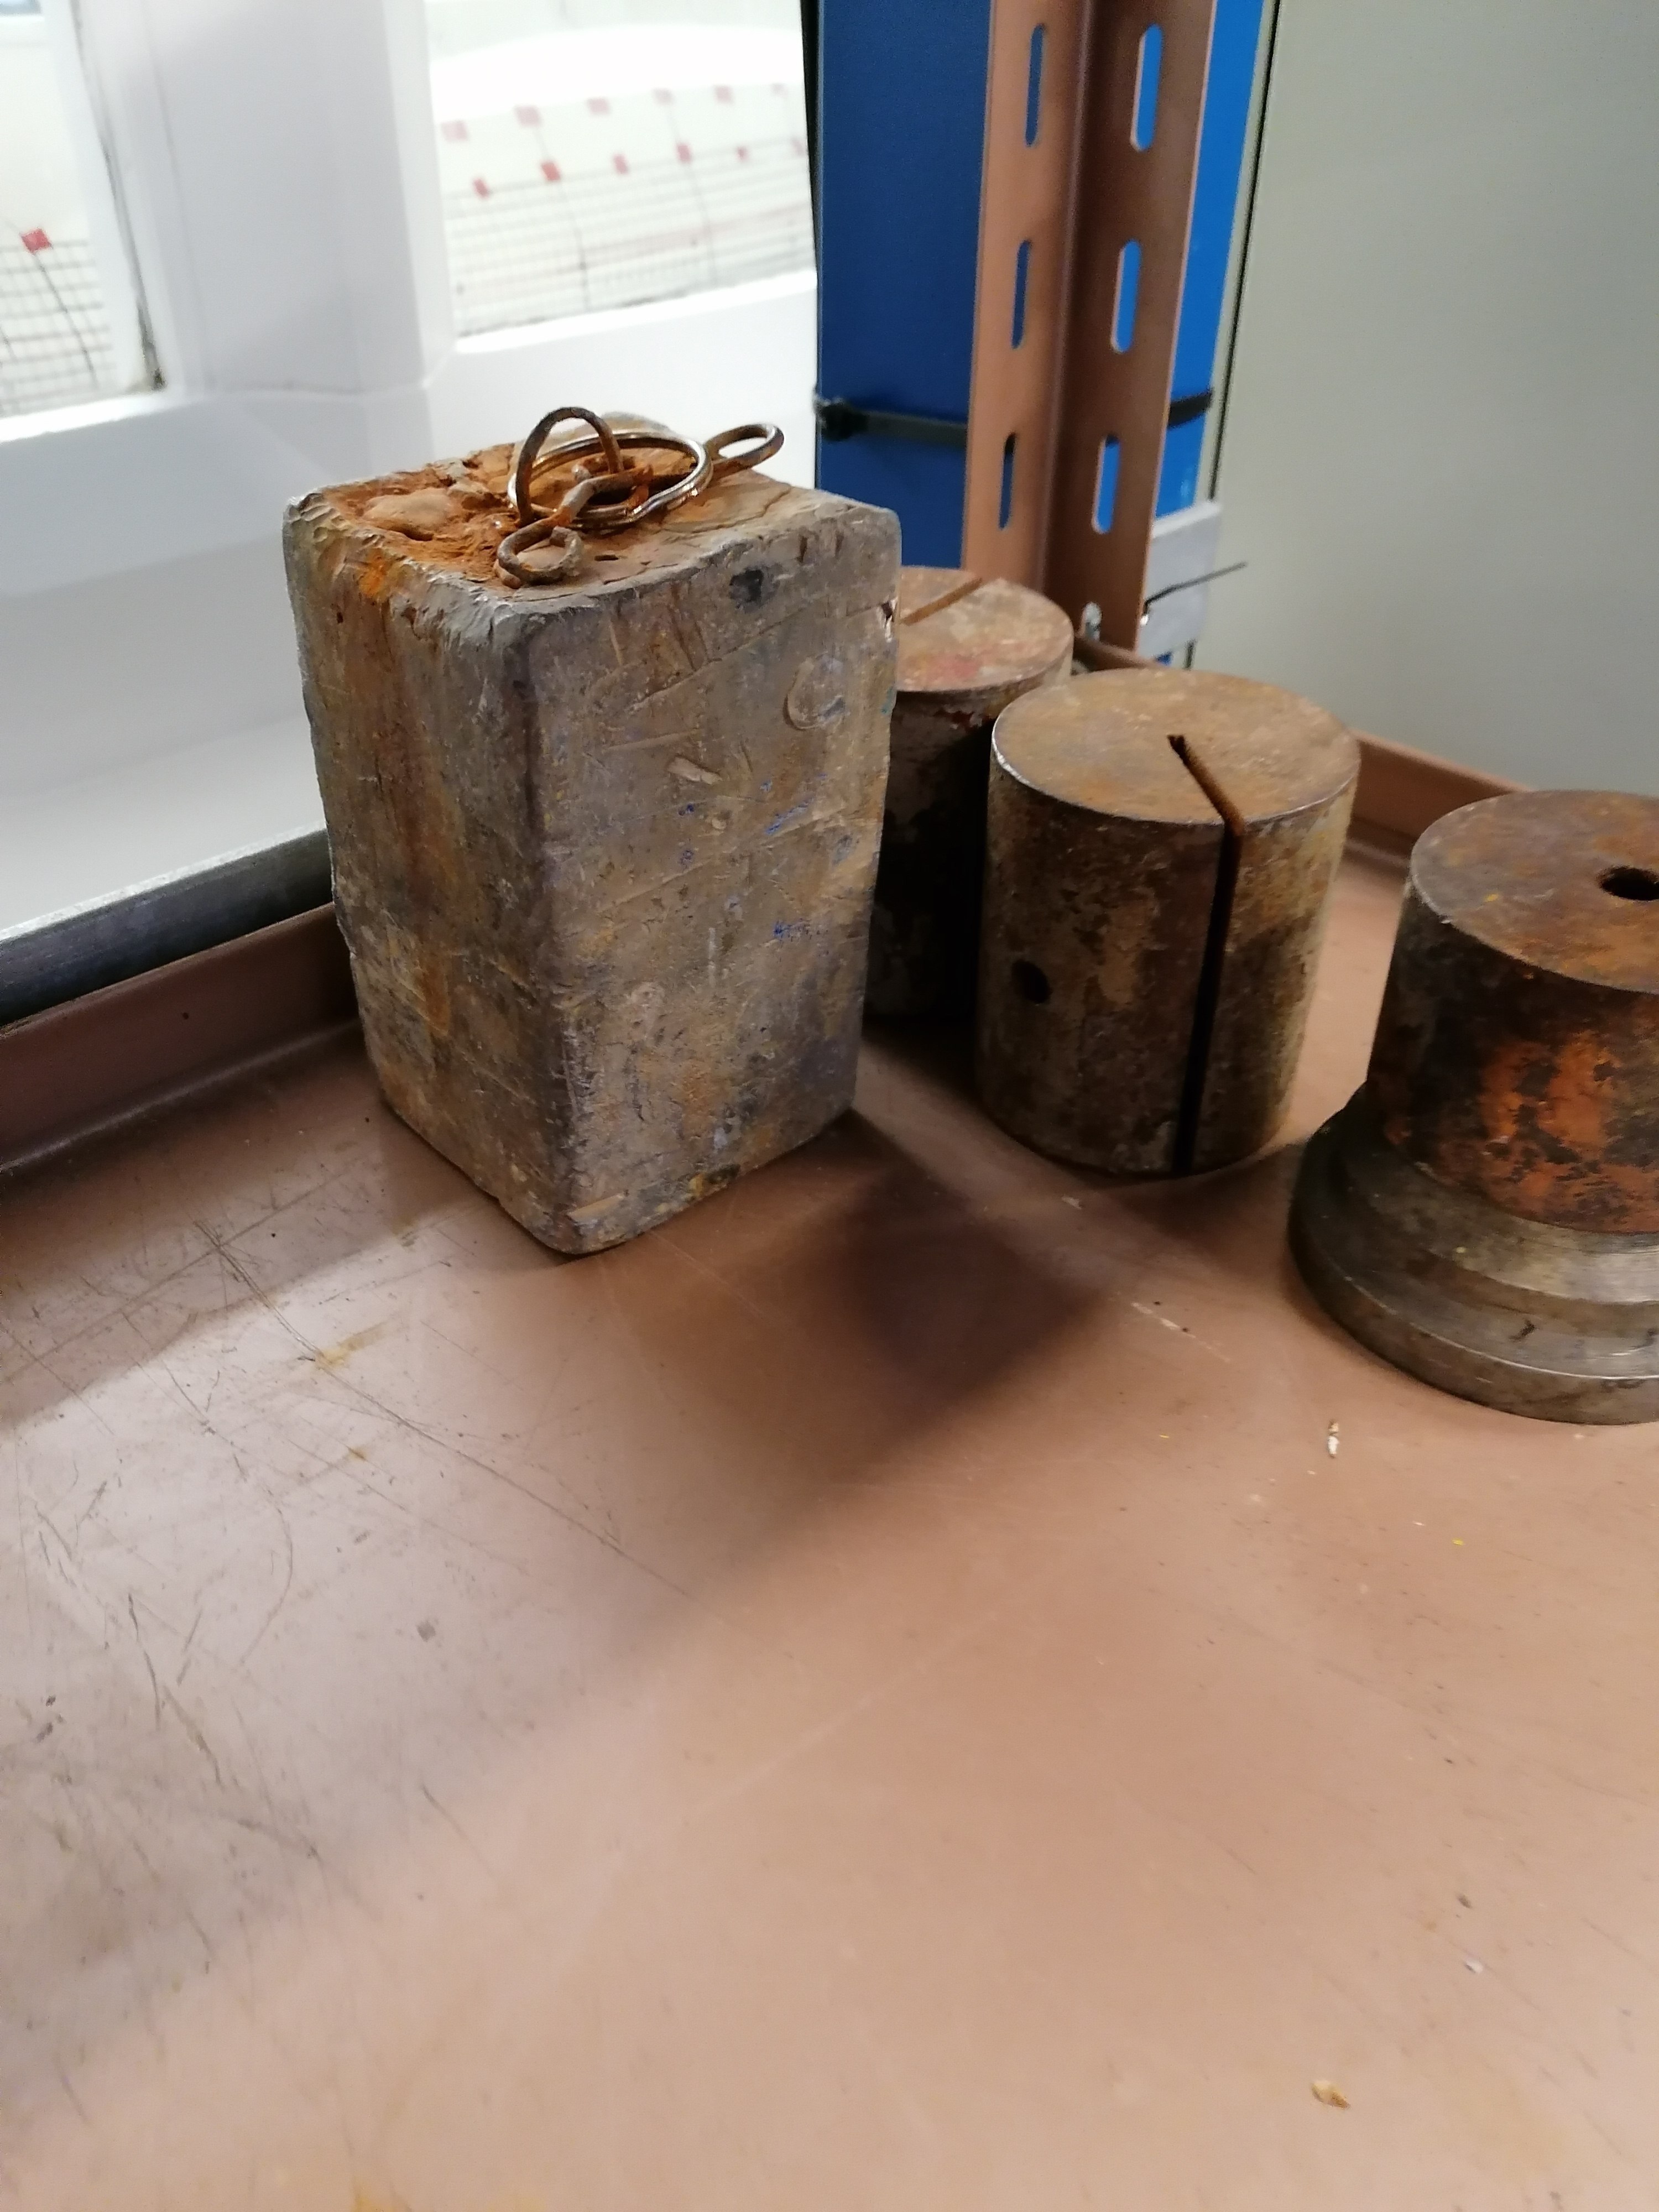lead_block: (282, 397, 904, 1261), (1293, 786, 1659, 1426), (978, 665, 1363, 1177), (871, 559, 1075, 1049)
